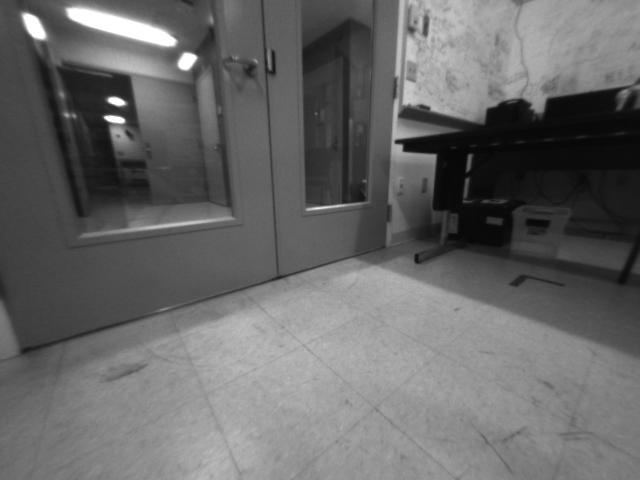door_handle: (214, 48, 259, 80)
